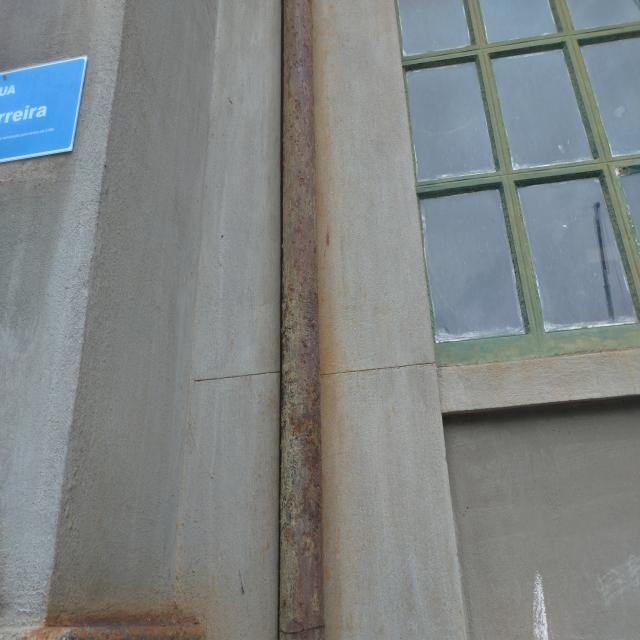gas: (279, 3, 316, 639)
